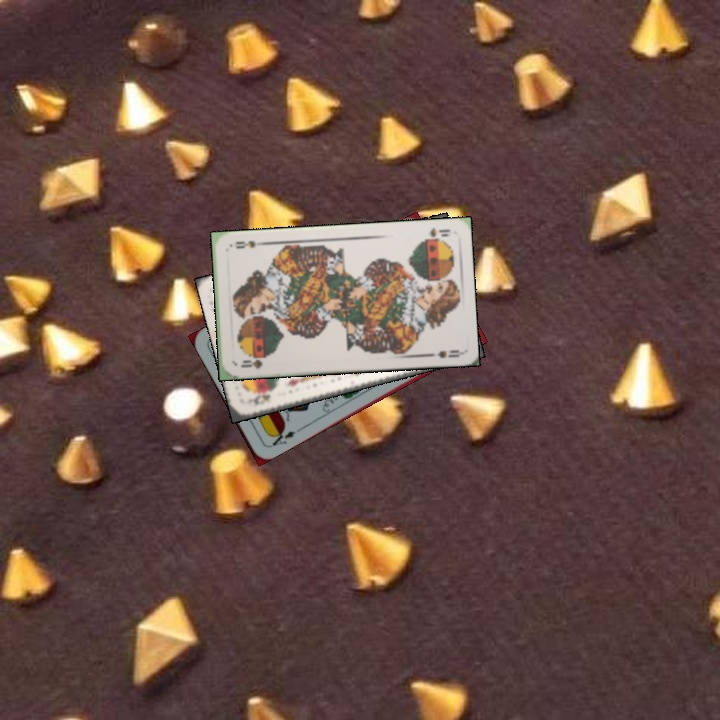EA: (265, 425, 303, 450)
SK: (246, 388, 272, 407)
SO: (237, 353, 270, 371), (426, 224, 452, 239)
